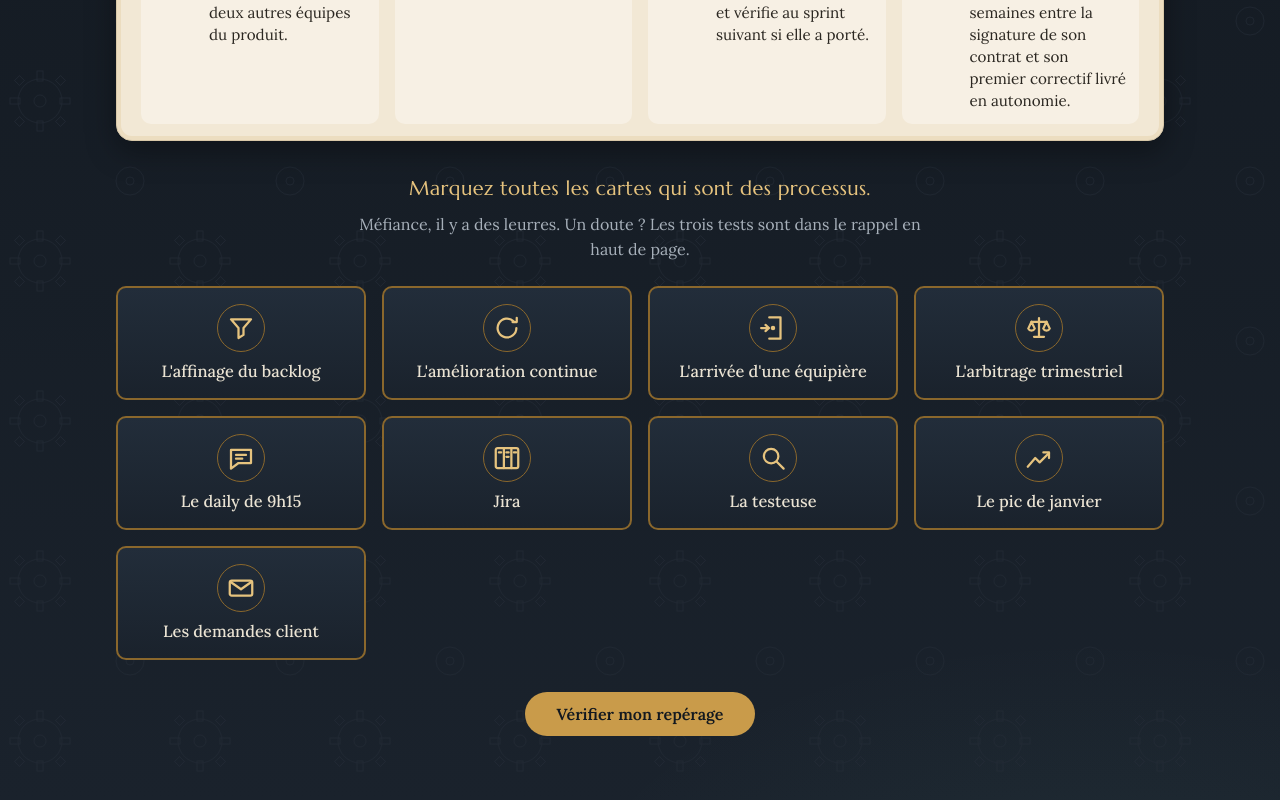
Test: SpottingBoard › révèle la carte d'identité (Entrée / Sortie / Client) des processus après vérification
(page scrolled)
Click the button "Vérifier mon repérage" at (640, 714), box [524,692,756,736]
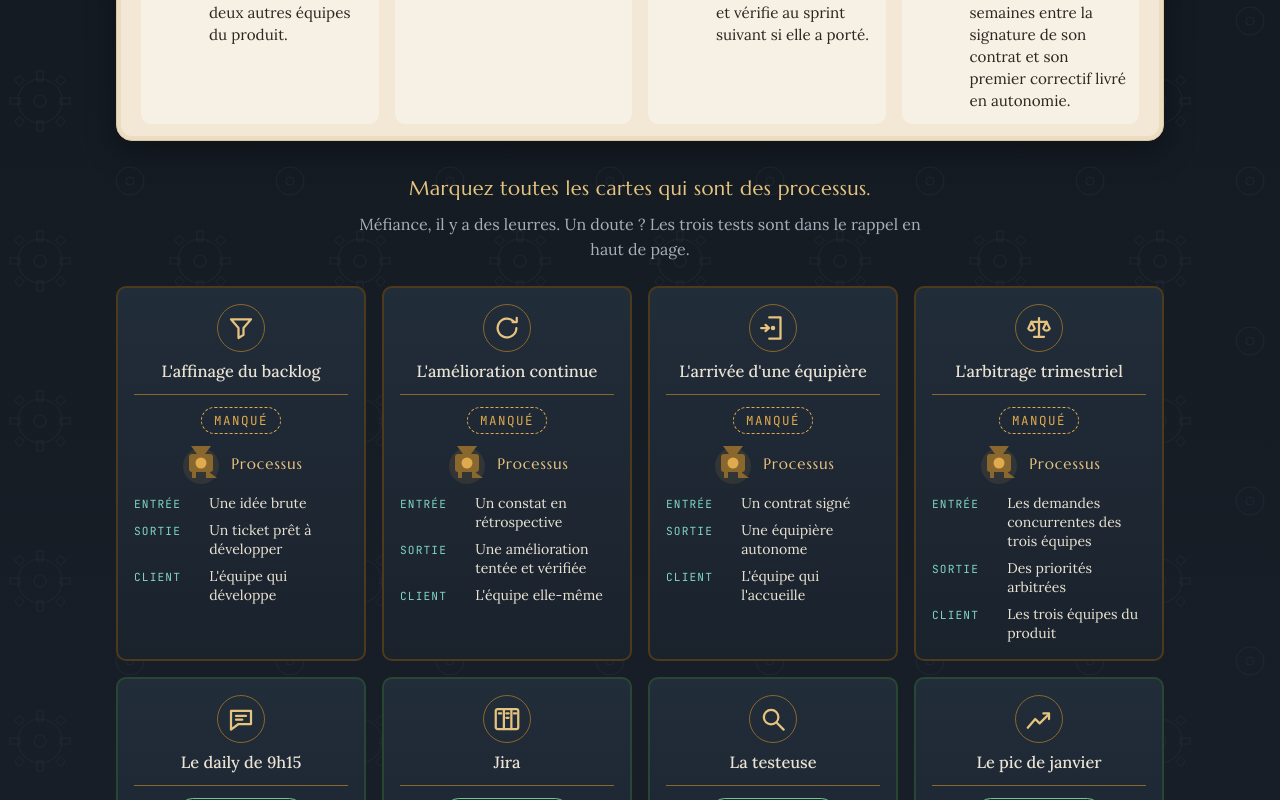
Expected: the text "Entrée" is shown 5 times
Expected: the text "Sortie" is shown 5 times
Expected: the text "Client" is shown 5 times
